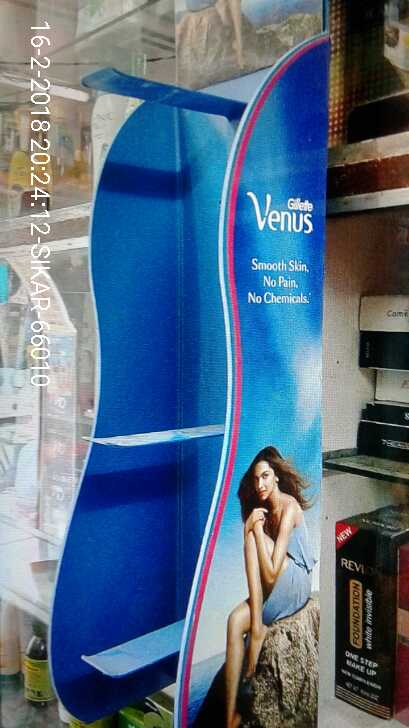reject: (251, 298, 343, 444)
